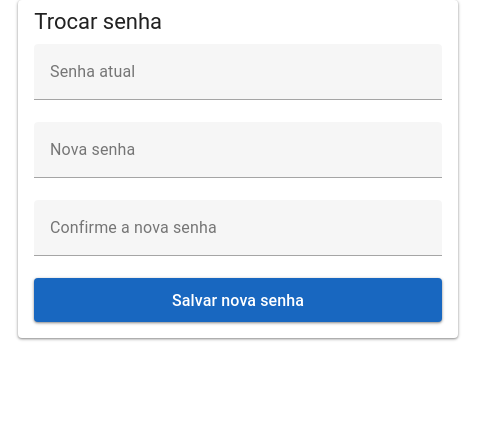
ChangePasswordPage › voluntary change › shows a wrong current password as a translated message
Type "errada" into the password field labelled "Senha atual" at [238, 72], box top-left (34, 44), bottom-right (442, 100)
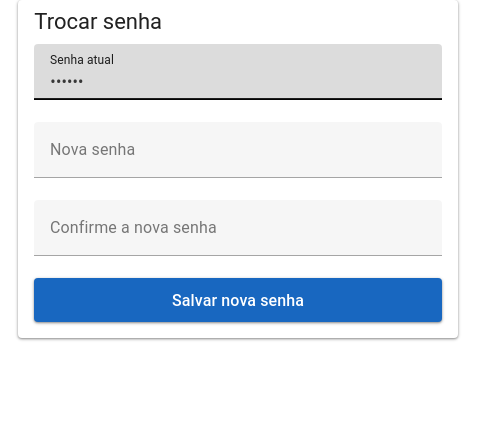
Type "nova-senha-1" into the password field labelled "Nova senha" at [238, 150], box top-left (34, 122), bottom-right (442, 178)
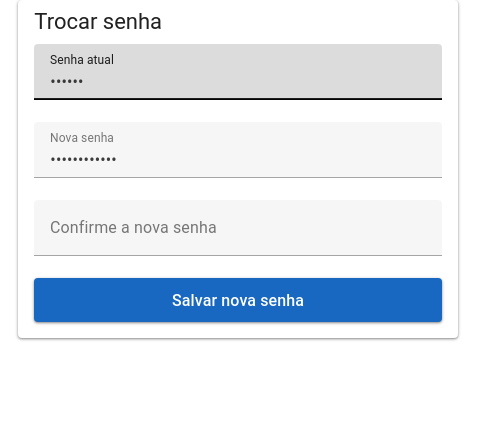
Type "nova-senha-1" into the password field labelled "Confirme a nova senha" at [238, 228], box top-left (34, 200), bottom-right (442, 256)
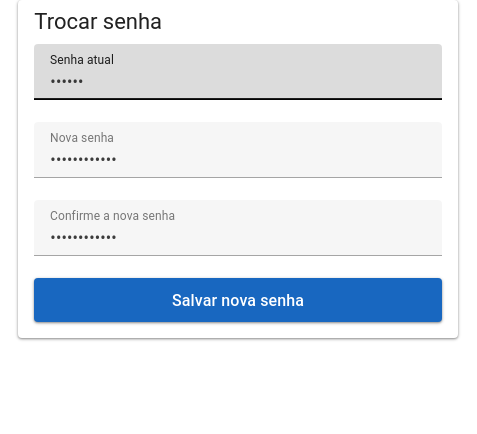
Click the button with test id "password-submit" at [238, 300], box top-left (34, 278), bottom-right (442, 322)
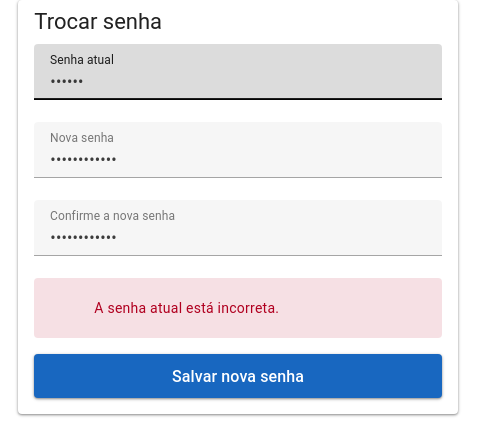
Check: the element with test id "password-error" reads "A senha atual está incorreta.", box top-left (94, 300), bottom-right (279, 316)
